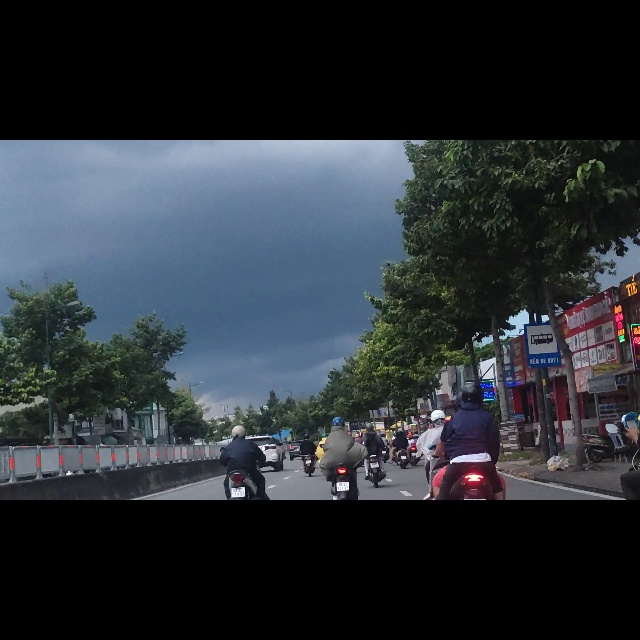bien_nguy_hiem: (523, 322, 563, 407)
